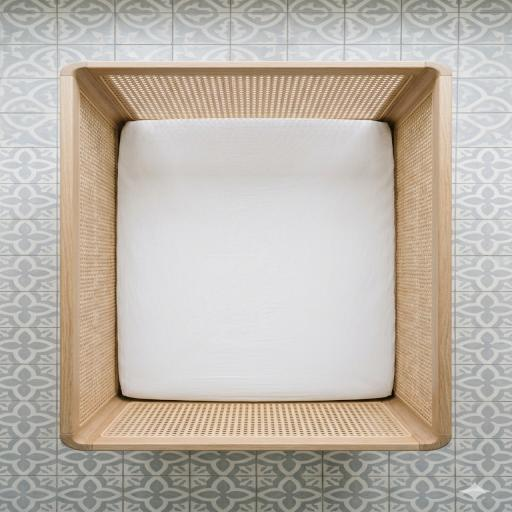crib: (61, 62, 451, 450)
